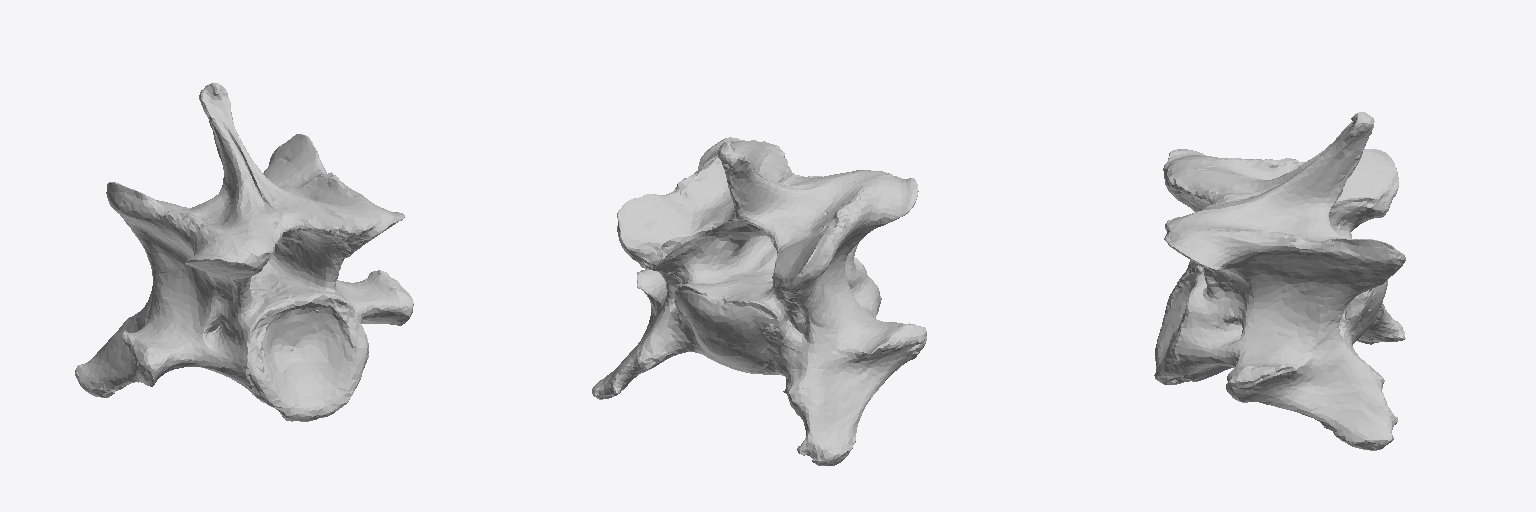
3 renders of one model, left to right at view 1: azimuth 30°, elevation 25°; view 2: azimuth 150°, elevation 25°; view 3: azimuth 270°, elevation 25°, orthographic.
Visible parts, largest first — view 1: hc941fm6529; view 2: hc941fm6529; view 3: hc941fm6529.
Boxes of the visible parts, <box> form: hc941fm6529: <box>75,83,413,421</box>; hc941fm6529: <box>592,137,926,465</box>; hc941fm6529: <box>1154,112,1405,450</box>.
Bounding box in the file's own units: 0.1234 × 0.1238 × 0.0982.